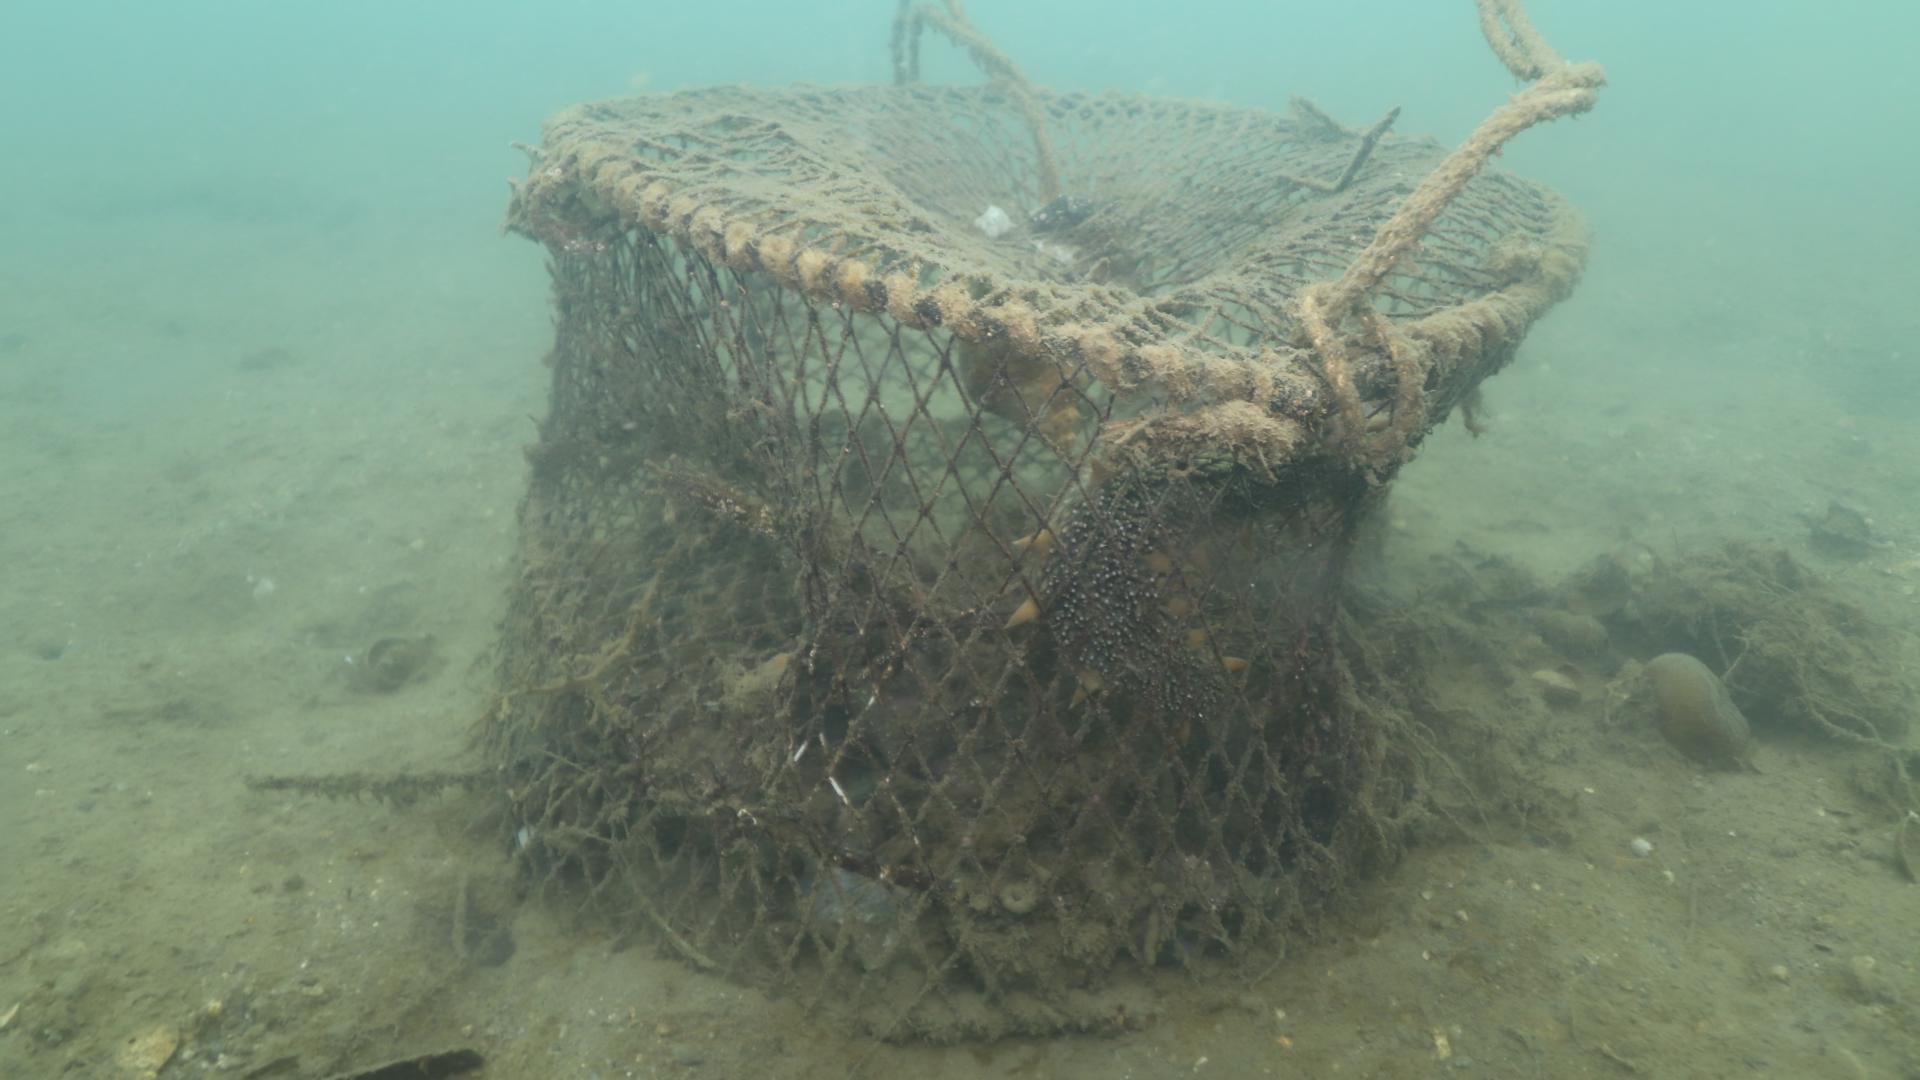bundle of ropes: (1296, 5, 1611, 328), (803, 0, 1110, 98)
circular fish trap: (483, 76, 1590, 1047)
